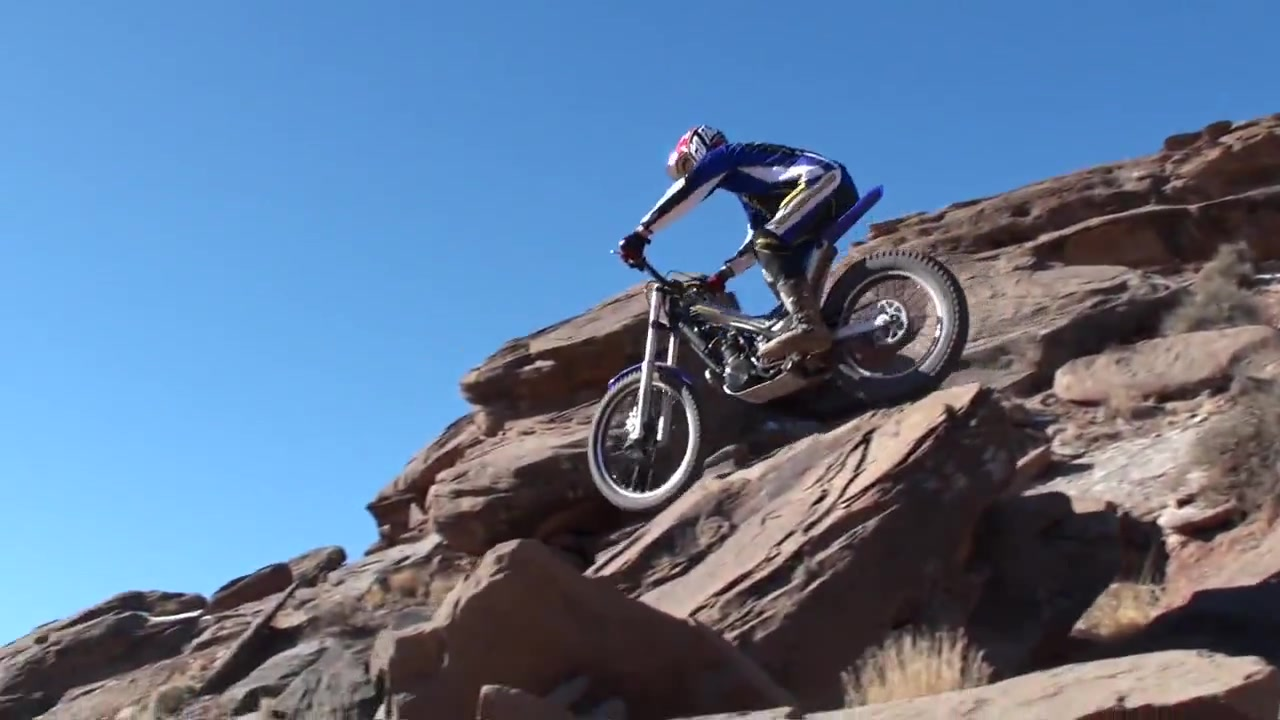motorbike: (583, 186, 974, 517)
